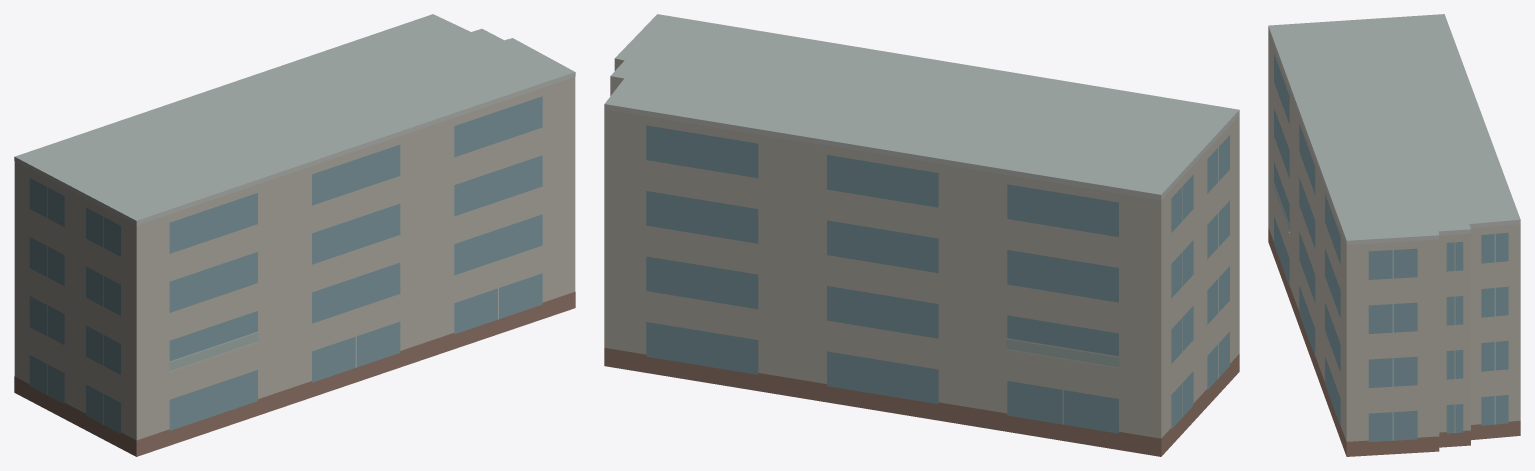
The model's file is survey-upis-32953916.glb.
3 views of the same model, side by side, from view 1: azimuth 30°, elevation 25°; view 2: azimuth 150°, elevation 25°; view 3: azimuth 270°, elevation 25° (orthographic). The views are drawn at different scales.
Parts seen in each view (by area): view 1: survey-upis-32953916.tmp; view 2: survey-upis-32953916.tmp; view 3: survey-upis-32953916.tmp.
Part boxes in pixels (<box>): survey-upis-32953916.tmp: <box>14,14,575,456</box>; survey-upis-32953916.tmp: <box>604,14,1239,456</box>; survey-upis-32953916.tmp: <box>1268,14,1520,456</box>.
Size of the model in its own units: 27.45 by 12.2 by 12.92.
